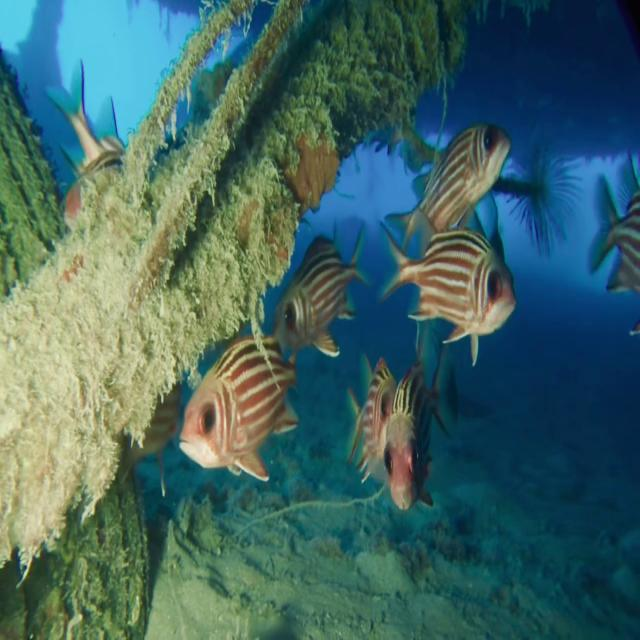Asker Baligi: (404, 102, 524, 262), (177, 332, 299, 484), (373, 232, 517, 341), (273, 234, 367, 353)
